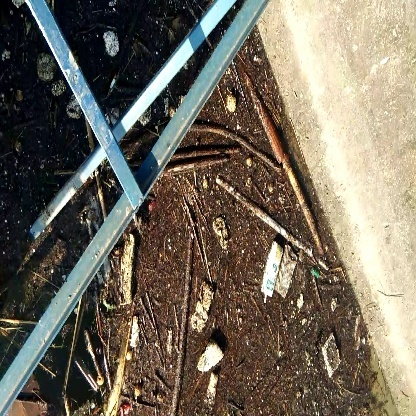branch: (246, 75, 322, 247)
